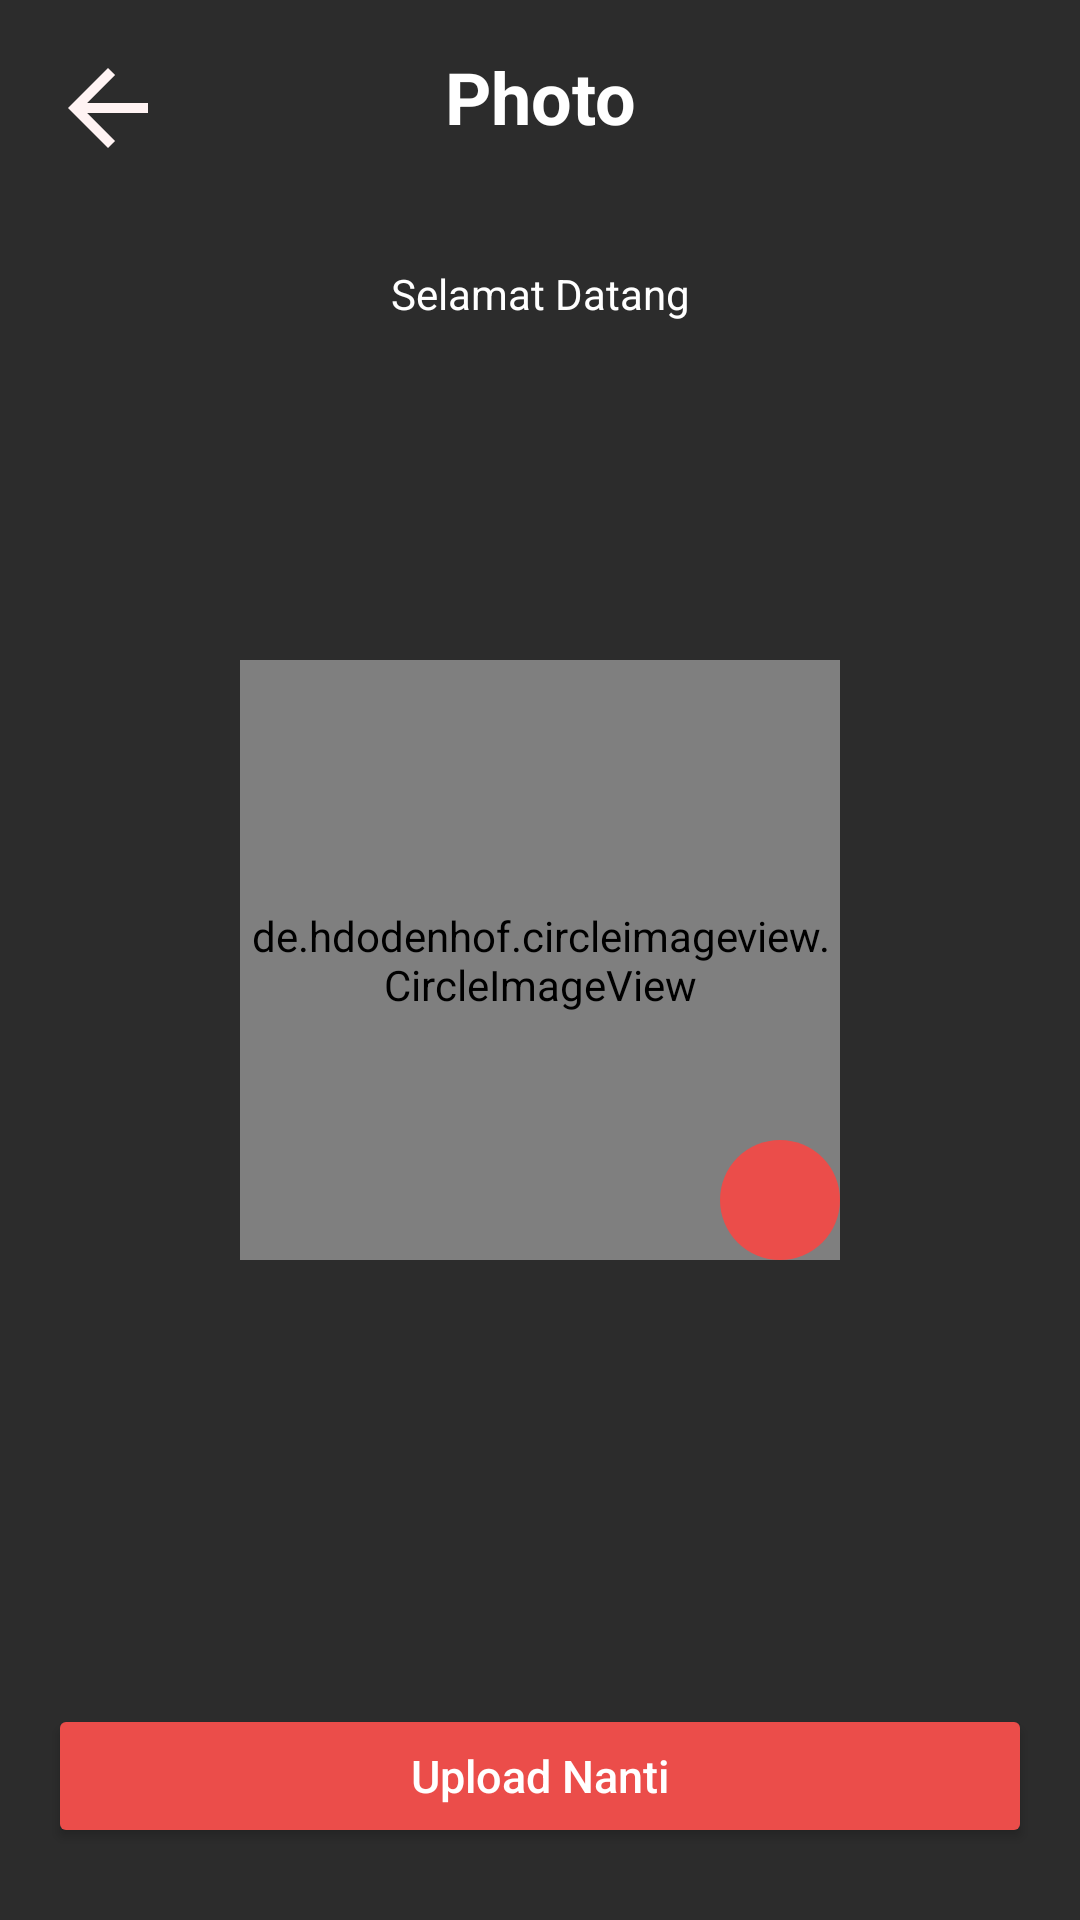

Icon click points for this 1080 x 1920 phone screenshot, format point (x, y):
arrow back: point (108, 108)
